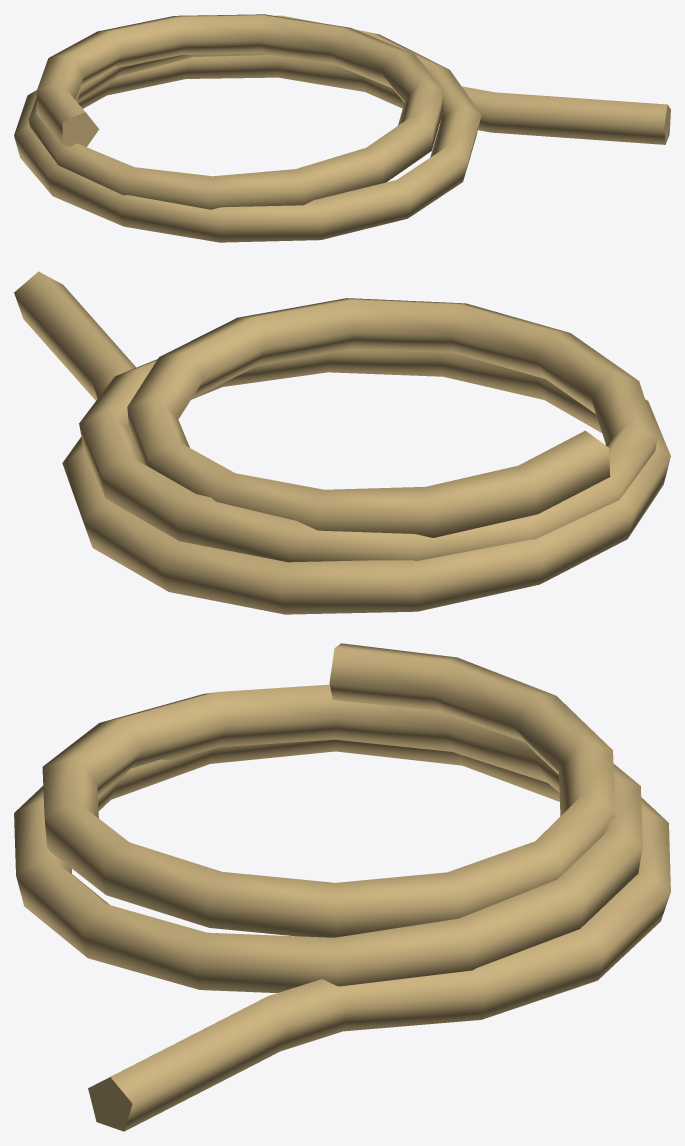
Rendered from rope_coil.glb.
3 views of the same model, one above another, from view 1: azimuth 30°, elevation 25°; view 2: azimuth 150°, elevation 25°; view 3: azimuth 270°, elevation 25° (orthographic). The views are drawn at different scales.
Visible parts, largest first — view 1: coil; view 2: coil; view 3: coil.
Boxes of the visible parts, x1,y1,x2,y2 form: coil: (14,14,670,242); coil: (14,271,670,614); coil: (14,643,670,1131).
Size of the model in its own units: 0.8016 by 0.1299 by 0.5833.
